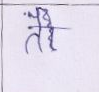ai_matra: (28, 6, 52, 25)
